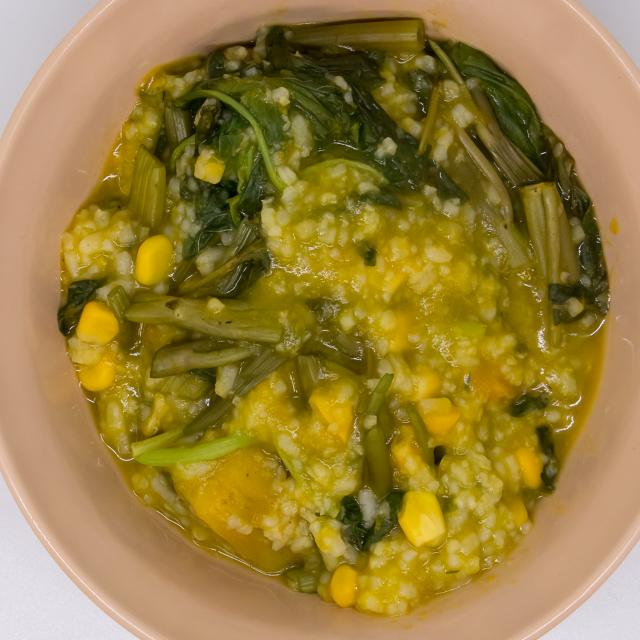Bubur-Manado: (52, 2, 624, 619)
